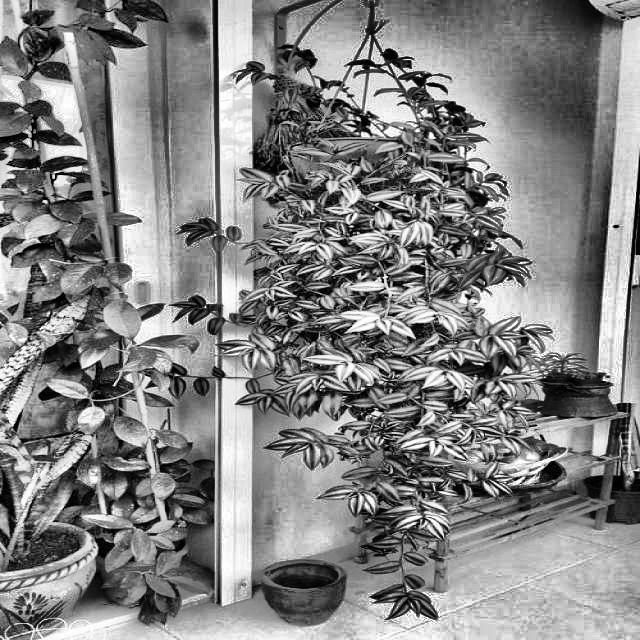plants: (168, 42, 558, 628)
